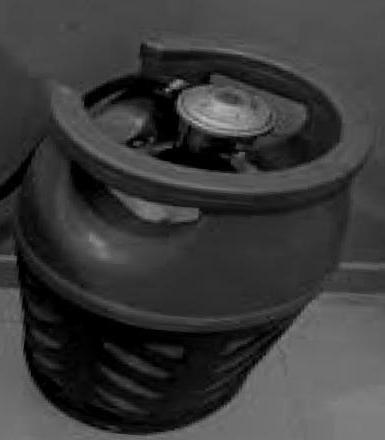cylinder: (1, 0, 385, 440)
